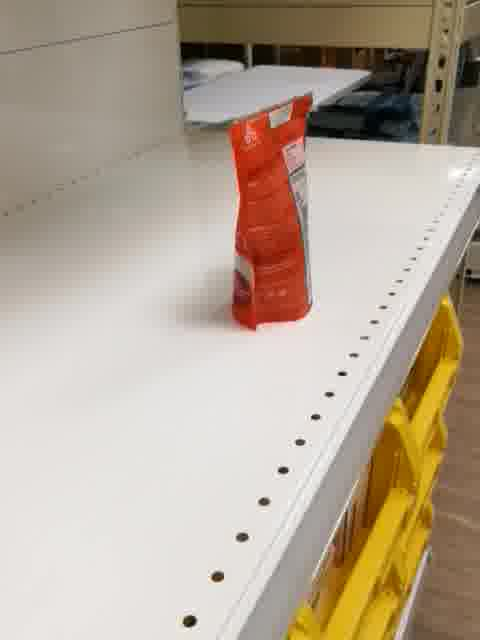whitechia: (222, 88, 321, 334)
